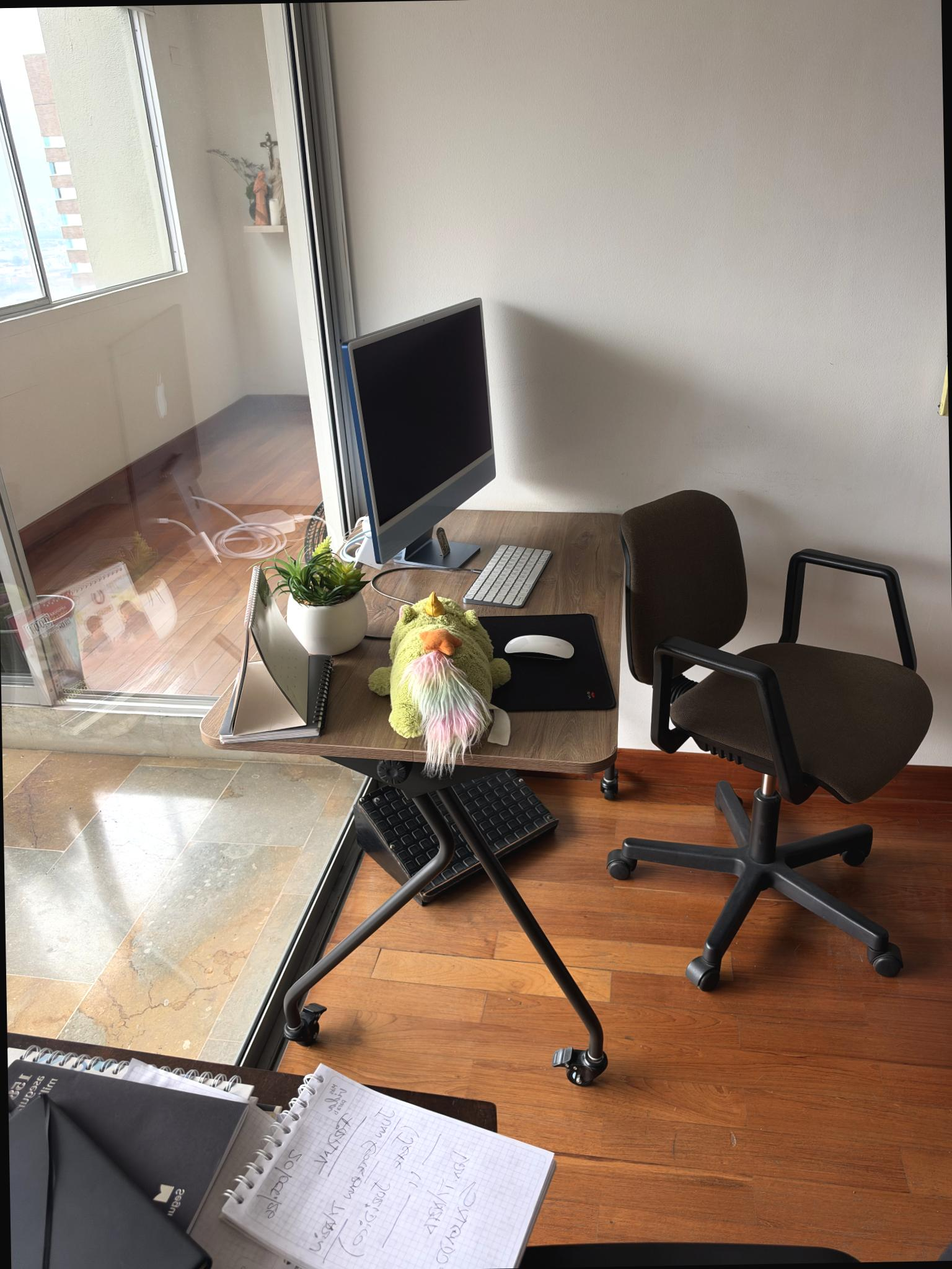peluche_martin: (365, 589, 513, 781)
